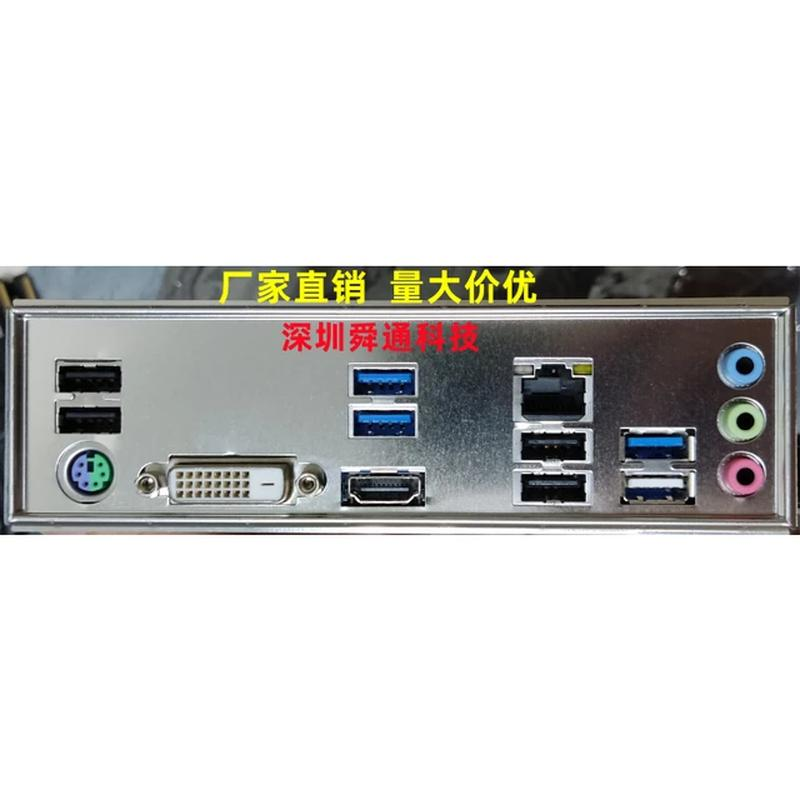AUDIO: (710, 332, 773, 386)
AUDIO_INPUT: (713, 395, 774, 443)
AUDIO_OUTPUT: (709, 452, 773, 502)
DVI: (131, 443, 336, 509)
ETHERNET: (504, 354, 598, 421)
HDMI: (338, 461, 431, 511)
PS2: (55, 437, 126, 505)
USB: (339, 356, 426, 403), (46, 352, 133, 393), (616, 468, 700, 507), (613, 424, 699, 462), (40, 403, 147, 433), (512, 469, 593, 508), (342, 405, 429, 439), (514, 427, 595, 460)
